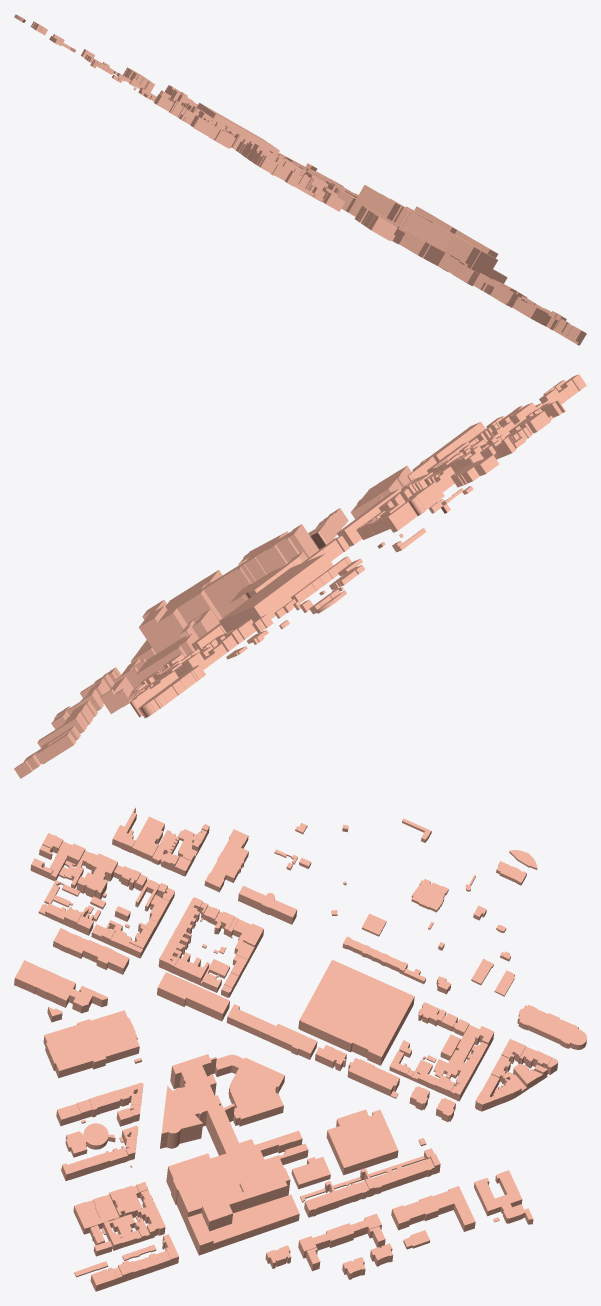
3 renders of one model, top to bottom at view 1: azimuth 30°, elevation 25°; view 2: azimuth 150°, elevation 25°; view 3: azimuth 270°, elevation 25°, orthographic. The views are drawn at different scales.
Size of the model in its own units: 530 by 401 by 681.
